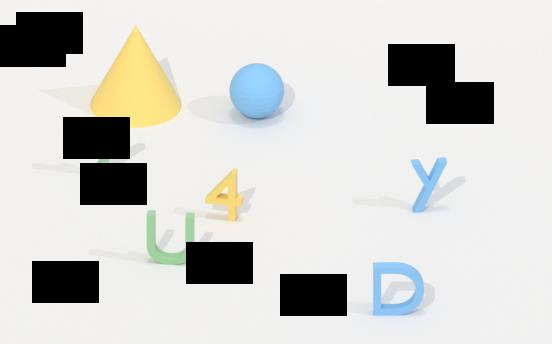4: (201, 167, 247, 223)
Y: (85, 119, 131, 182), (408, 154, 453, 214)
cau: (226, 60, 288, 121)
d: (367, 260, 430, 316)
non: (83, 32, 185, 128)
u: (140, 208, 204, 267)
